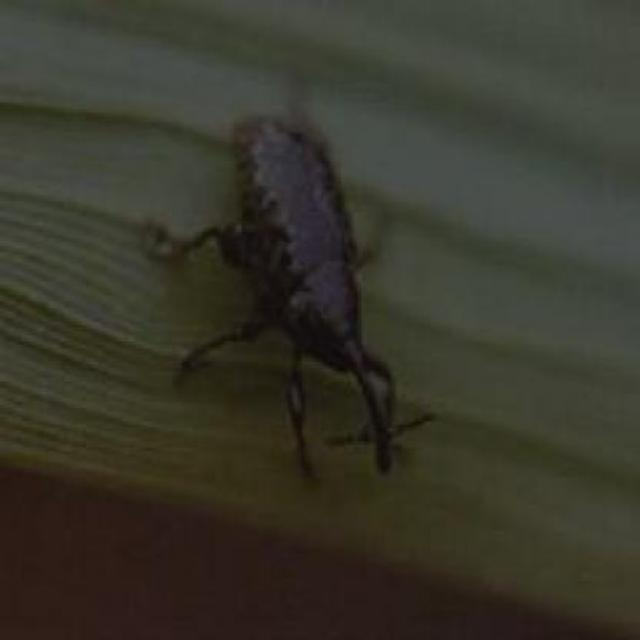rice-bug: (168, 119, 422, 478)
